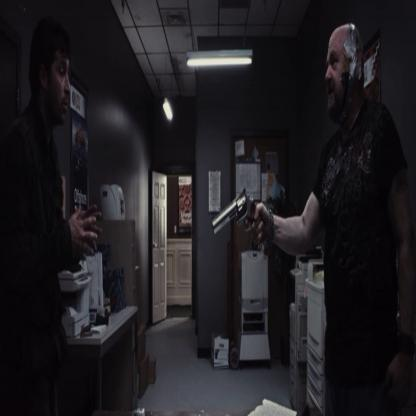gun: (207, 182, 264, 262)
